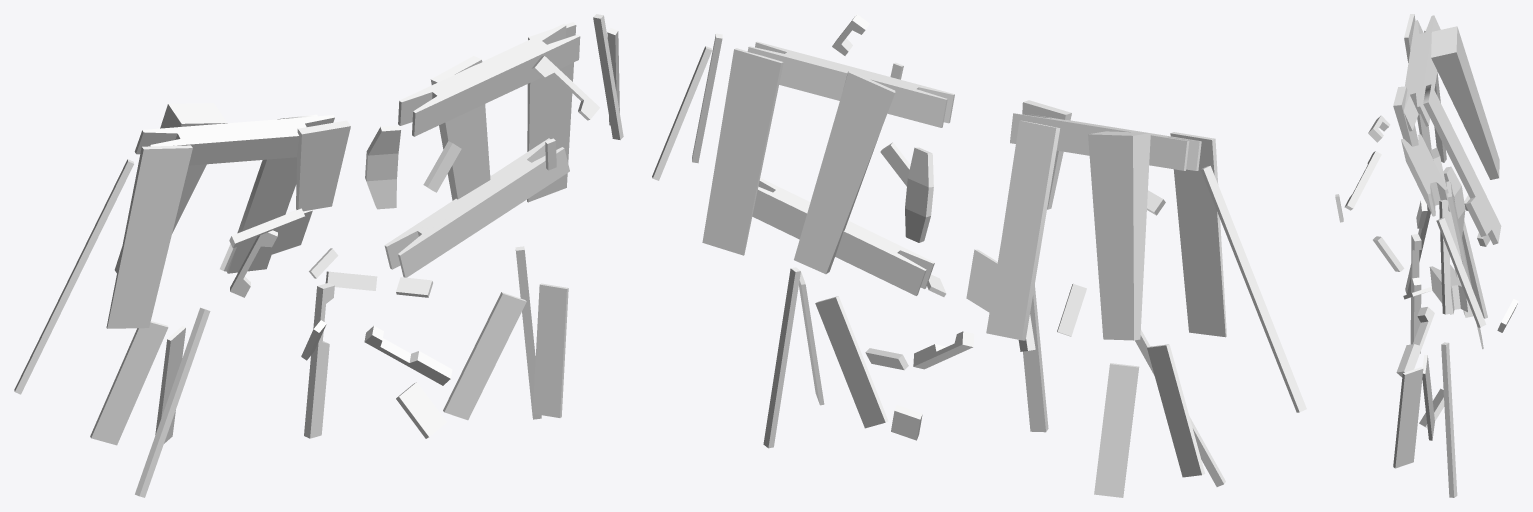
Rendered from kpr_small_debris_02.glb.
3 views of the same model, side by side, from view 1: azimuth 30°, elevation 25°; view 2: azimuth 150°, elevation 25°; view 3: azimuth 270°, elevation 25° (orthographic). The views are drawn at different scales.
Visible parts, largest first — view 1: kpr_small_debris_02; view 2: kpr_small_debris_02; view 3: kpr_small_debris_02.
Boxes of the visible parts, box(x1,y1,x2,y2) form: kpr_small_debris_02: box(14, 14, 623, 497); kpr_small_debris_02: box(652, 14, 1306, 497); kpr_small_debris_02: box(1335, 14, 1518, 497).
Size of the model in its own units: 73.5 by 45.41 by 22.87.
Materials: 1 (1 with a texture image).
